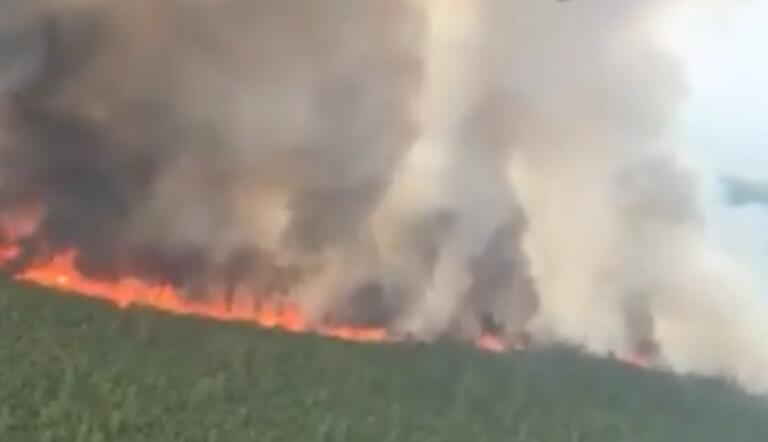fire: (1, 228, 508, 357)
smoke: (1, 1, 761, 386)
